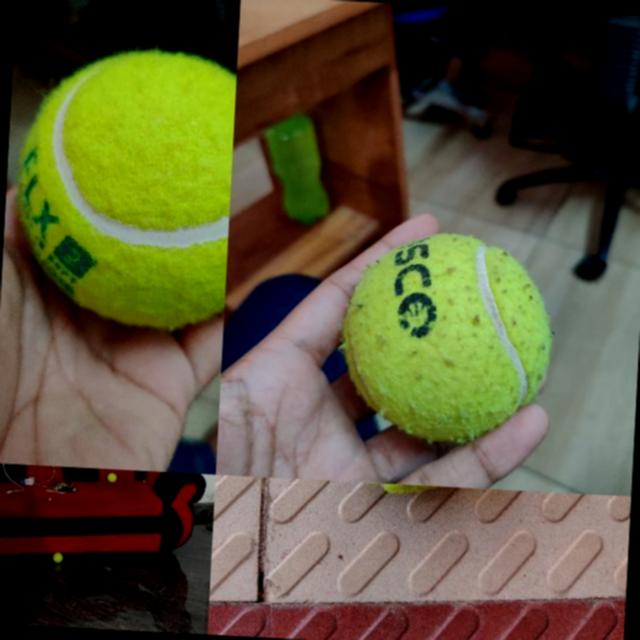tennis-ball: (12, 44, 236, 330), (336, 227, 559, 447), (52, 551, 63, 562), (108, 473, 116, 482)
